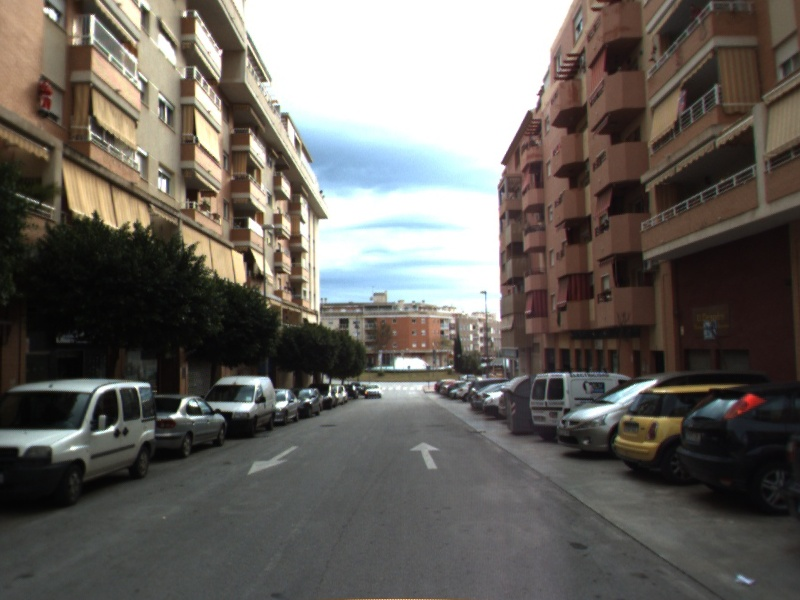STRAIGHT: (408, 440, 442, 471)
